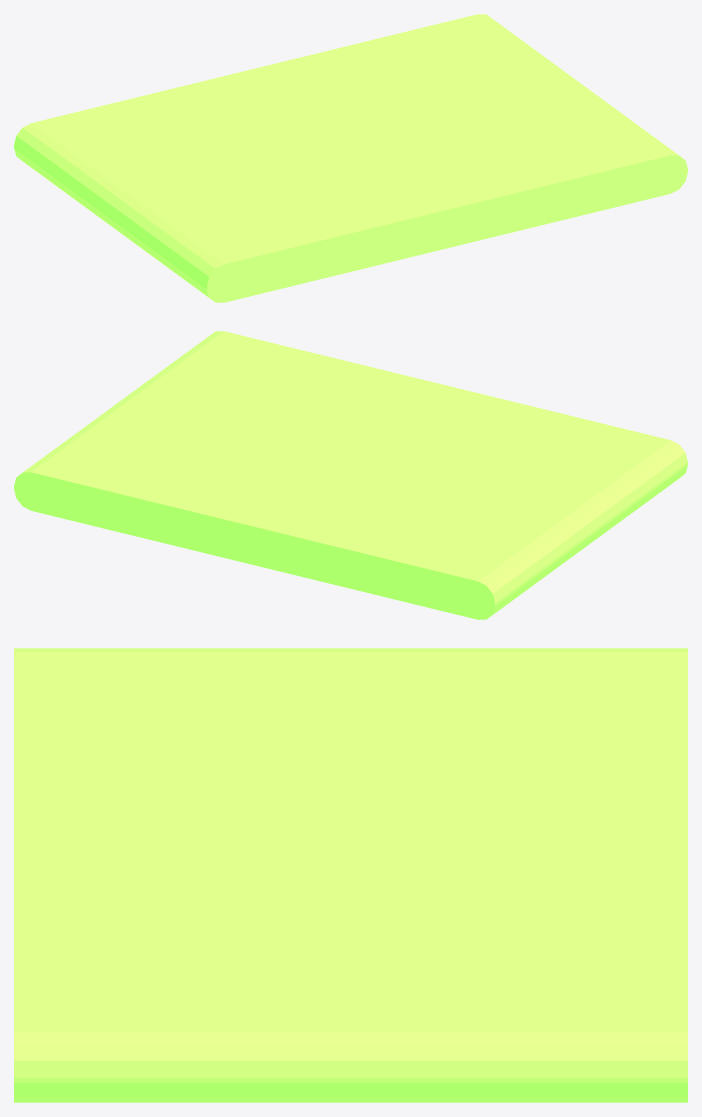
File: Spring_PadHot.gltf
3 views of the same model, one above another, from view 1: azimuth 30°, elevation 25°; view 2: azimuth 150°, elevation 25°; view 3: azimuth 270°, elevation 25° (orthographic). The views are drawn at different scales.
Visible parts, largest first — view 1: Spring_PadHot_baked; view 2: Spring_PadHot_baked; view 3: Spring_PadHot_baked.
Part boxes in pixels (x1,y1,x2,y2): Spring_PadHot_baked: [14, 14, 687, 302]; Spring_PadHot_baked: [14, 331, 687, 619]; Spring_PadHot_baked: [14, 648, 687, 1102].
Size of the model in its own units: 0.72 by 0.055 by 0.5.
